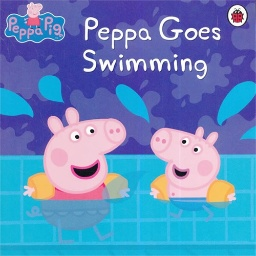Peppa: (23, 106, 131, 203)
